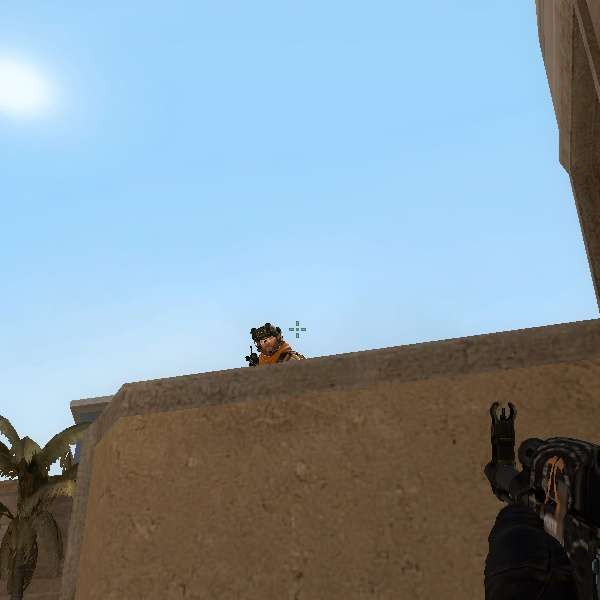t_body: (237, 319, 301, 365)
